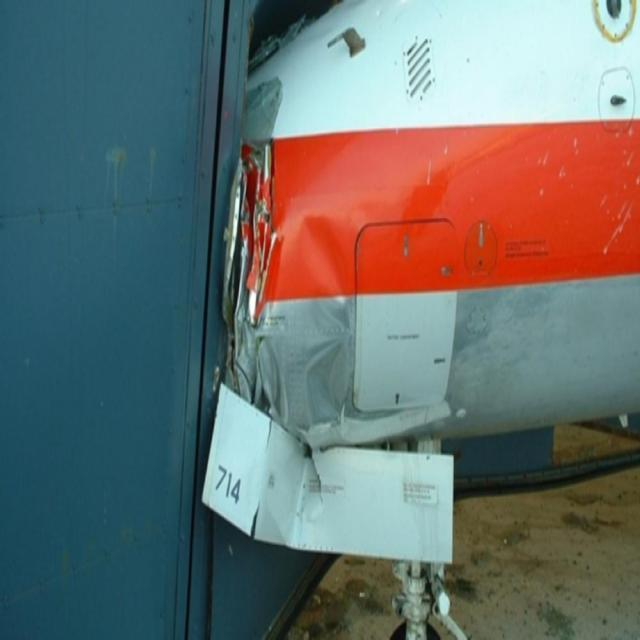dent: (297, 201, 350, 429)
